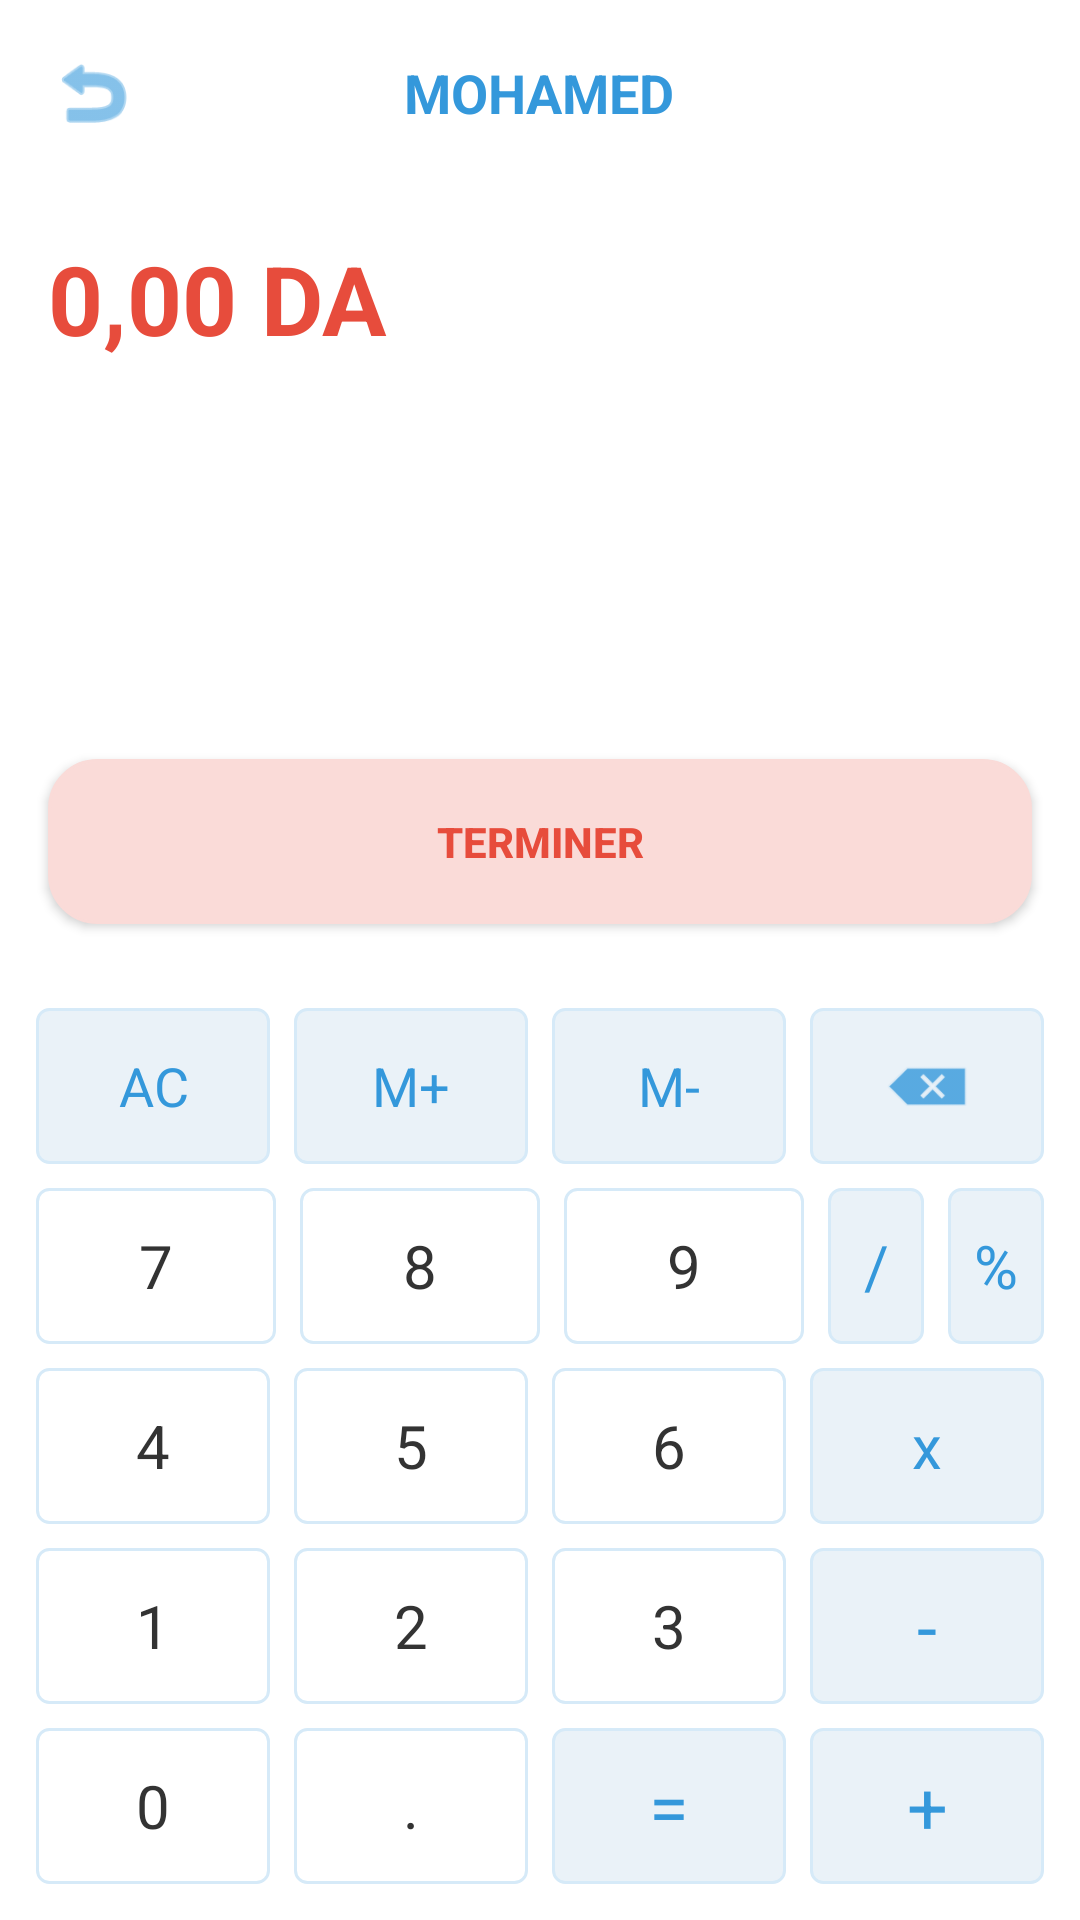

Icon bounding boxes for this 1080 x 1920 phone screenshot, format box=[x1, y1, x2, y2]:
delete: box=[810, 1008, 1044, 1164]
revert: box=[62, 64, 127, 123]
